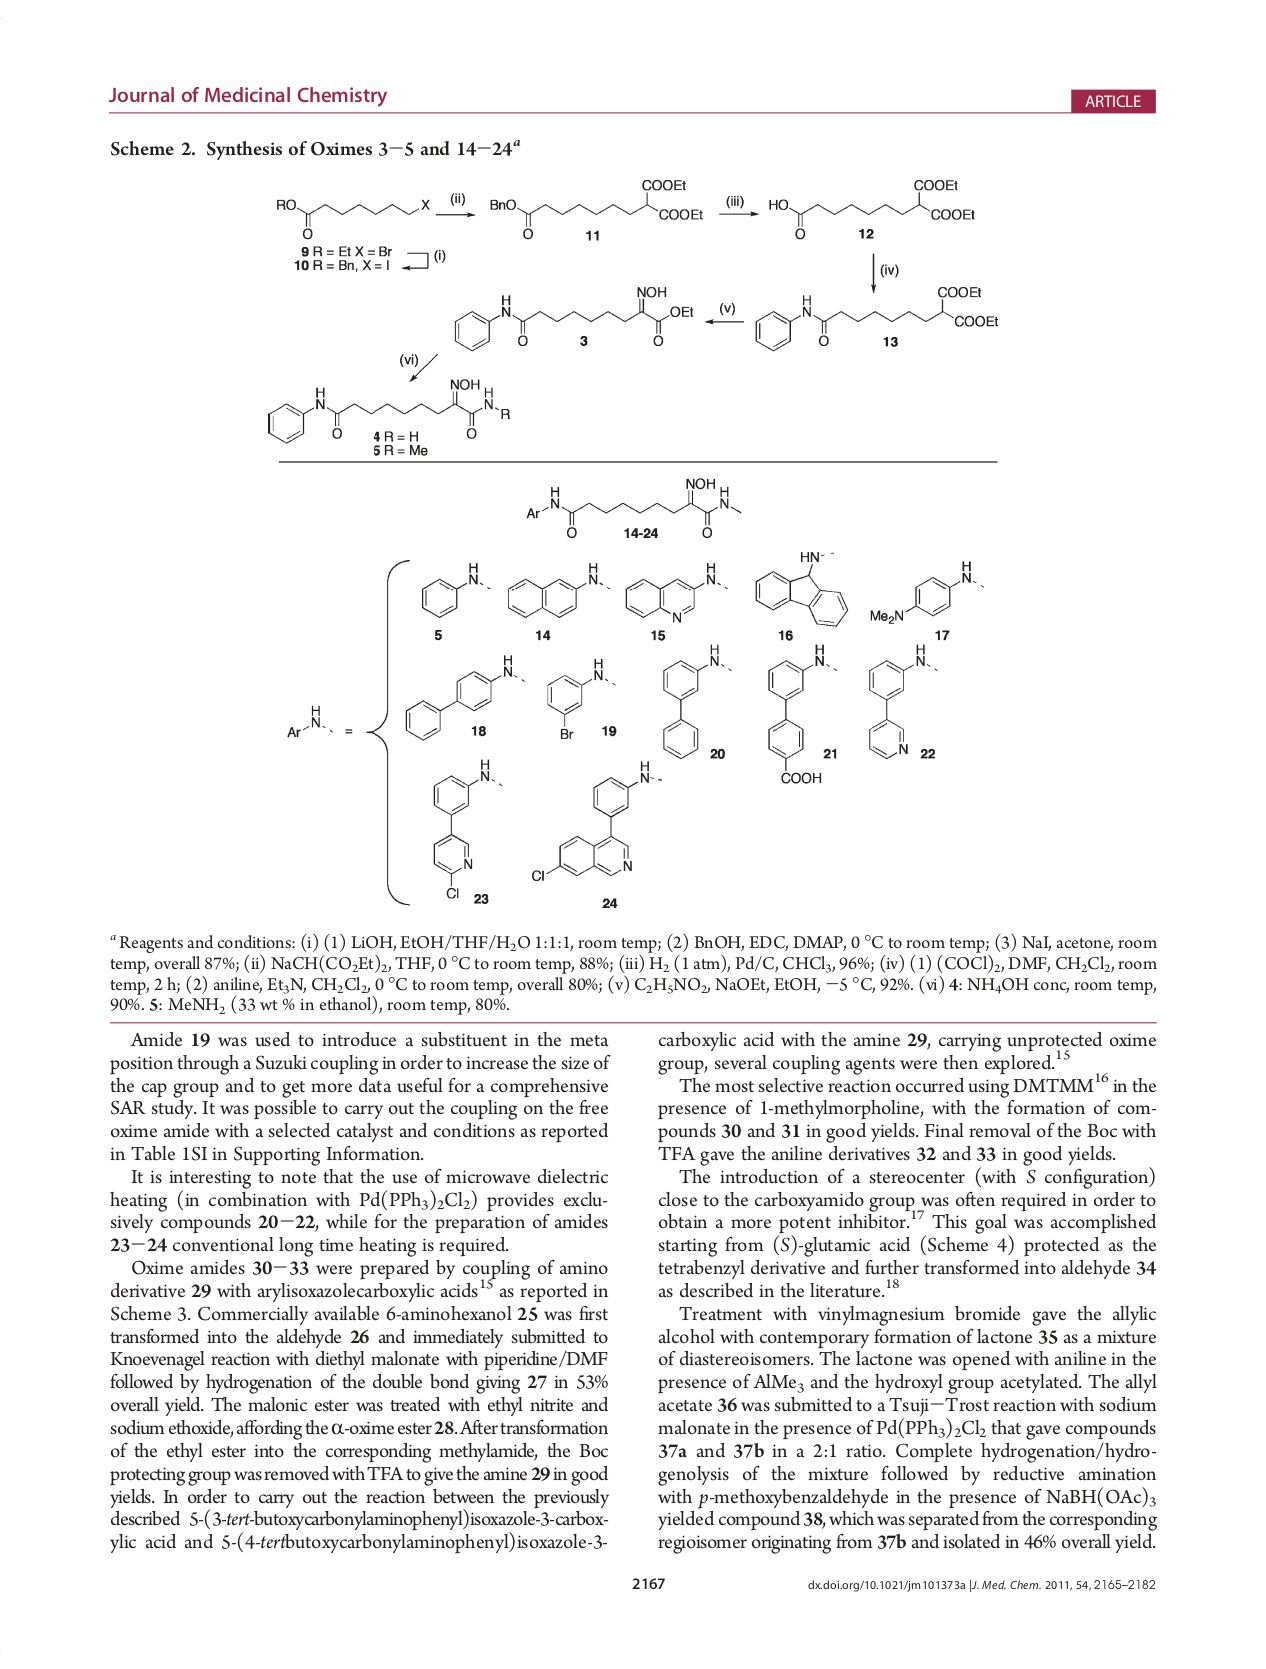exist_molecular: (750, 282, 1001, 356), (448, 282, 694, 354), (528, 758, 666, 883), (265, 376, 513, 444), (521, 471, 746, 541), (485, 177, 709, 242), (765, 176, 980, 242), (430, 754, 505, 902), (765, 642, 840, 787), (404, 652, 527, 739), (660, 641, 733, 762), (864, 638, 935, 762), (749, 547, 851, 630), (864, 559, 989, 626), (270, 193, 432, 241), (621, 559, 734, 622), (501, 559, 613, 618), (543, 654, 618, 742), (418, 559, 492, 622)
